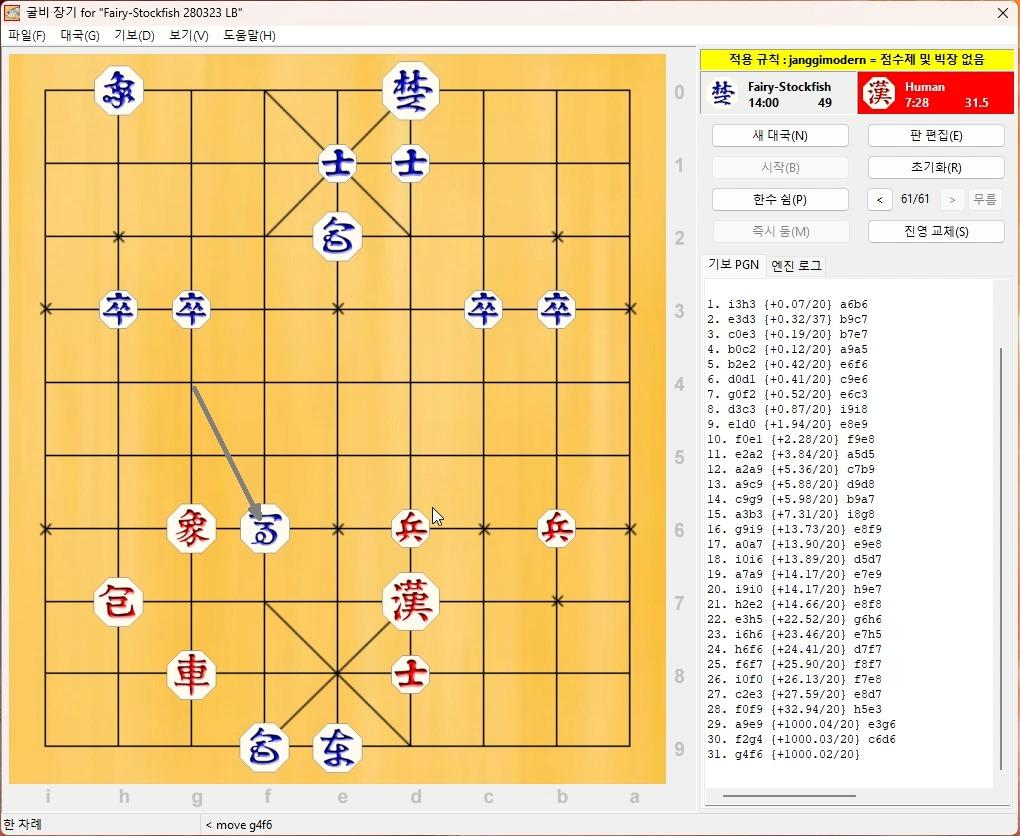cha_green: (313, 725, 362, 771)
cha_red: (168, 653, 218, 699)
jol_green: (172, 292, 210, 329), (466, 292, 504, 328), (537, 293, 576, 328), (98, 293, 136, 328)
jol_red: (391, 507, 427, 548), (538, 510, 574, 549)
ma_green: (240, 508, 289, 554)
po_green: (237, 724, 288, 769), (315, 215, 362, 260)
po_red: (95, 579, 144, 624)
sa_green: (319, 145, 358, 183), (392, 148, 431, 182)
sa_red: (391, 656, 433, 692)
sang_green: (95, 68, 143, 113)
sang_red: (168, 503, 216, 556)
wang_green: (382, 63, 439, 117)
wang_red: (383, 577, 440, 629)
